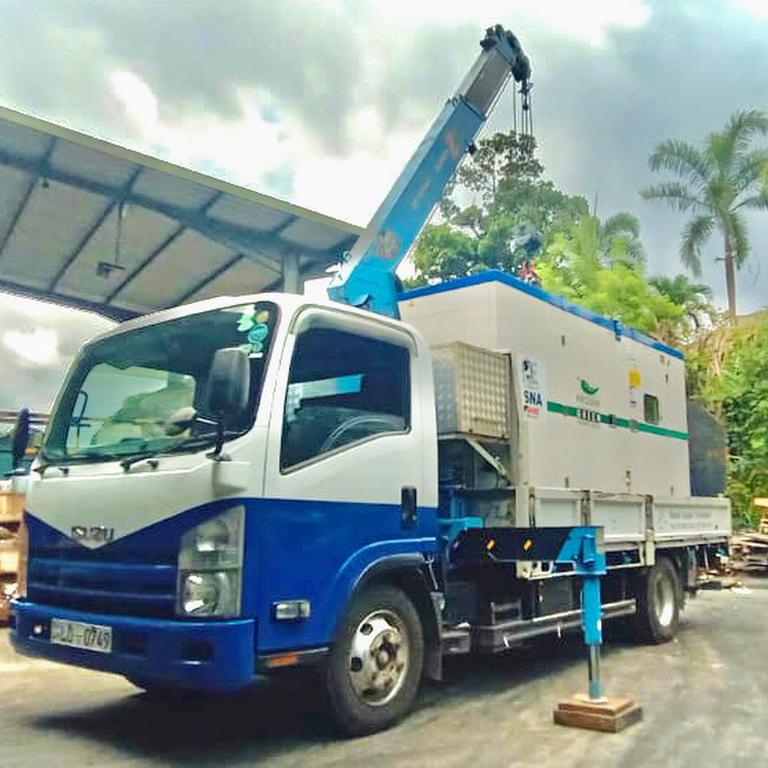truck: (9, 269, 732, 733)
